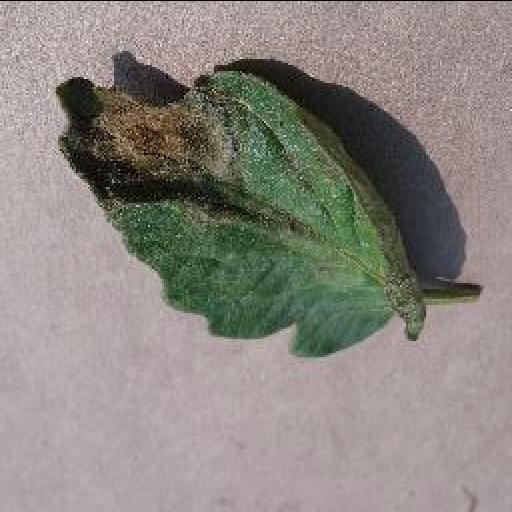disease_tomato: (50, 66, 426, 362)
